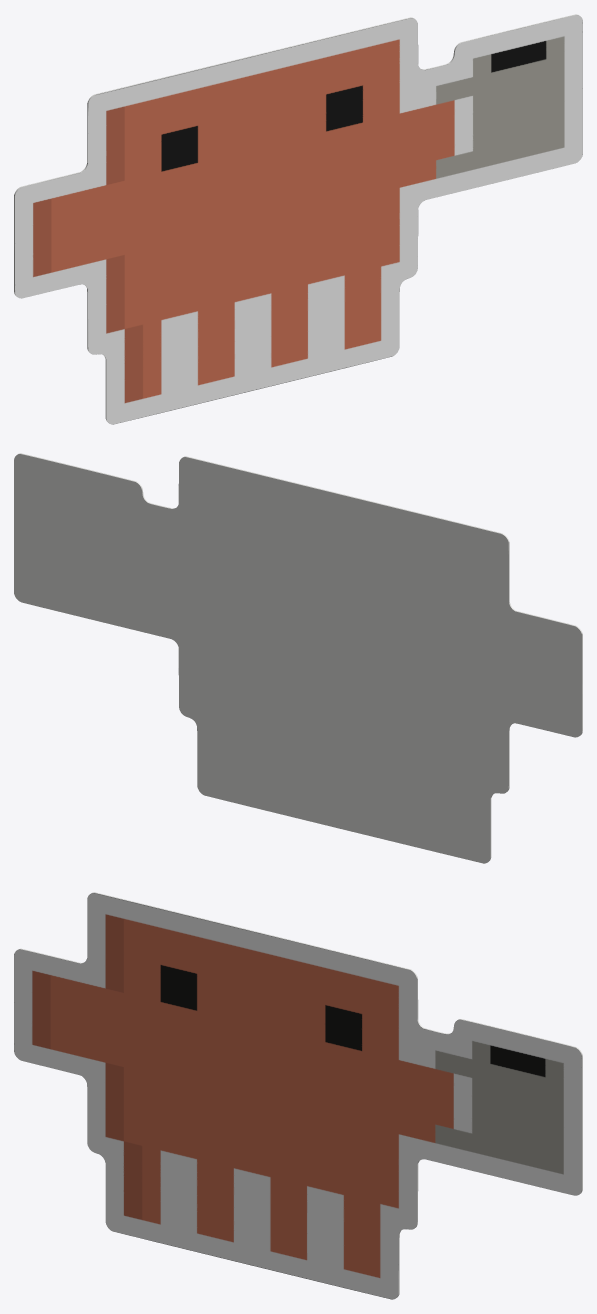
File: new-04-pixel-dog.glb
3 views of the same model, one above another, from view 1: azimuth 30°, elevation 25°; view 2: azimuth 150°, elevation 25°; view 3: azimuth 330°, elevation 25° (orthographic).
Parts seen in each view (by area): view 1: new-04-pixel-dog / thin printed sticker; view 2: new-04-pixel-dog / thin printed sticker; view 3: new-04-pixel-dog / thin printed sticker.
Boxes of the visible parts, x1,y1,x2,y2 form: new-04-pixel-dog / thin printed sticker: (14, 14, 582, 424); new-04-pixel-dog / thin printed sticker: (14, 453, 582, 863); new-04-pixel-dog / thin printed sticker: (14, 892, 582, 1299).
Bounding box in the file's own units: 2.34 × 1.31 × 0.006.
Materials: 2 (1 with a texture image).
